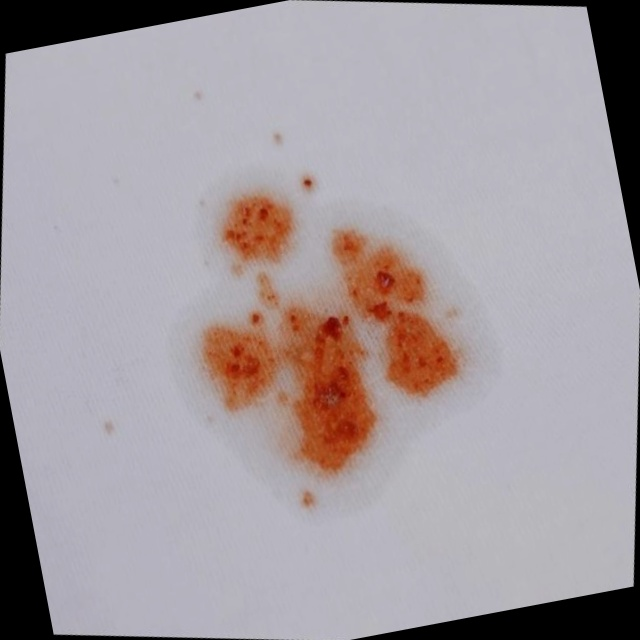kimchi: (137, 134, 522, 531), (92, 404, 128, 447), (269, 117, 292, 148), (187, 81, 208, 107)
